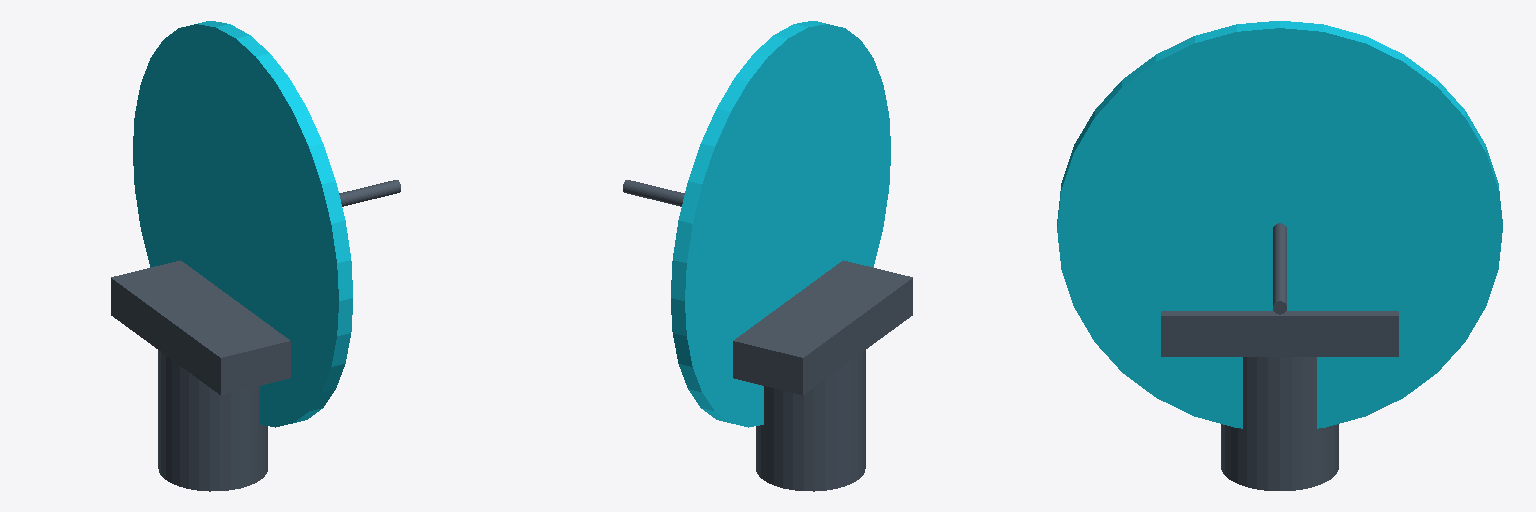
URDF robot description (antena_atp):
<?xml version="1.0"?>
<!-- Montura Az/El con plato de 3 m (estacion tipo OrbitEye del curso 30).
     Los joints 'az' y 'el' se mueven con /joint_states de mount_sim. -->
<robot name="antena_atp">
  <material name="cian"><color rgba="0.13 0.83 0.93 1"/></material>
  <material name="gris"><color rgba="0.35 0.40 0.45 1"/></material>

  <link name="base_link">
    <visual><origin xyz="0 0 0.5"/><geometry><cylinder radius="0.4" length="1.0"/></geometry>
      <material name="gris"/></visual>
  </link>

  <link name="az_link">
    <visual><origin xyz="0 0 0.15"/><geometry><box size="0.8 1.6 0.3"/></geometry>
      <material name="gris"/></visual>
  </link>
  <joint name="az" type="continuous">
    <parent link="base_link"/><child link="az_link"/>
    <origin xyz="0 0 1.0"/><axis xyz="0 0 1"/>
  </joint>

  <link name="el_link">
    <!-- el plato apunta a +X cuando el=0; el eje de elevacion es Y -->
    <visual><origin xyz="0.25 0 0" rpy="0 1.5708 0"/>
      <geometry><cylinder radius="1.5" length="0.12"/></geometry>
      <material name="cian"/></visual>
    <visual><origin xyz="0.9 0 0" rpy="0 1.5708 0"/>
      <geometry><cylinder radius="0.05" length="1.3"/></geometry>
      <material name="gris"/></visual>
  </link>
  <joint name="el" type="revolute">
    <parent link="az_link"/><child link="el_link"/>
    <origin xyz="0 0 0.9"/><axis xyz="0 -1 0"/>
    <limit lower="0" upper="3.14159" effort="100" velocity="3.0"/>
  </joint>

  <!-- punto de apuntamiento: 1 m delante del plato, para ver la linea de vista -->
  <link name="boresight"/>
  <joint name="boresight_joint" type="fixed">
    <parent link="el_link"/><child link="boresight"/><origin xyz="1.55 0 0"/>
  </joint>
</robot>

--- Render facts (derived) ---
Views: 3 orthographic renders of the robot side by side, from view 1: azimuth 30°, elevation 25°; view 2: azimuth 150°, elevation 25°; view 3: azimuth 270°, elevation 25°.
Model antena_atp with 4 links and 3 joints (1 revolute, 1 continuous, 1 fixed), rooted at base_link, posed every joint at zero.
Links seen in each view (by area): view 1: el_link, az_link, base_link; view 2: el_link, az_link, base_link; view 3: el_link, base_link, az_link.
Boxes of the visible links, bbox=[...] form: el_link: bbox=[133, 21, 400, 427]; az_link: bbox=[111, 260, 290, 394]; base_link: bbox=[158, 350, 267, 491]; el_link: bbox=[623, 21, 890, 427]; az_link: bbox=[733, 260, 912, 394]; base_link: bbox=[756, 350, 865, 491]; el_link: bbox=[1057, 21, 1502, 428]; base_link: bbox=[1221, 357, 1338, 490]; az_link: bbox=[1161, 311, 1398, 356].
Size in the robot's own frame: 1.95 by 3 by 3.4 metres.
Geometry: primitives only (box / cylinder / sphere), no mesh files.
